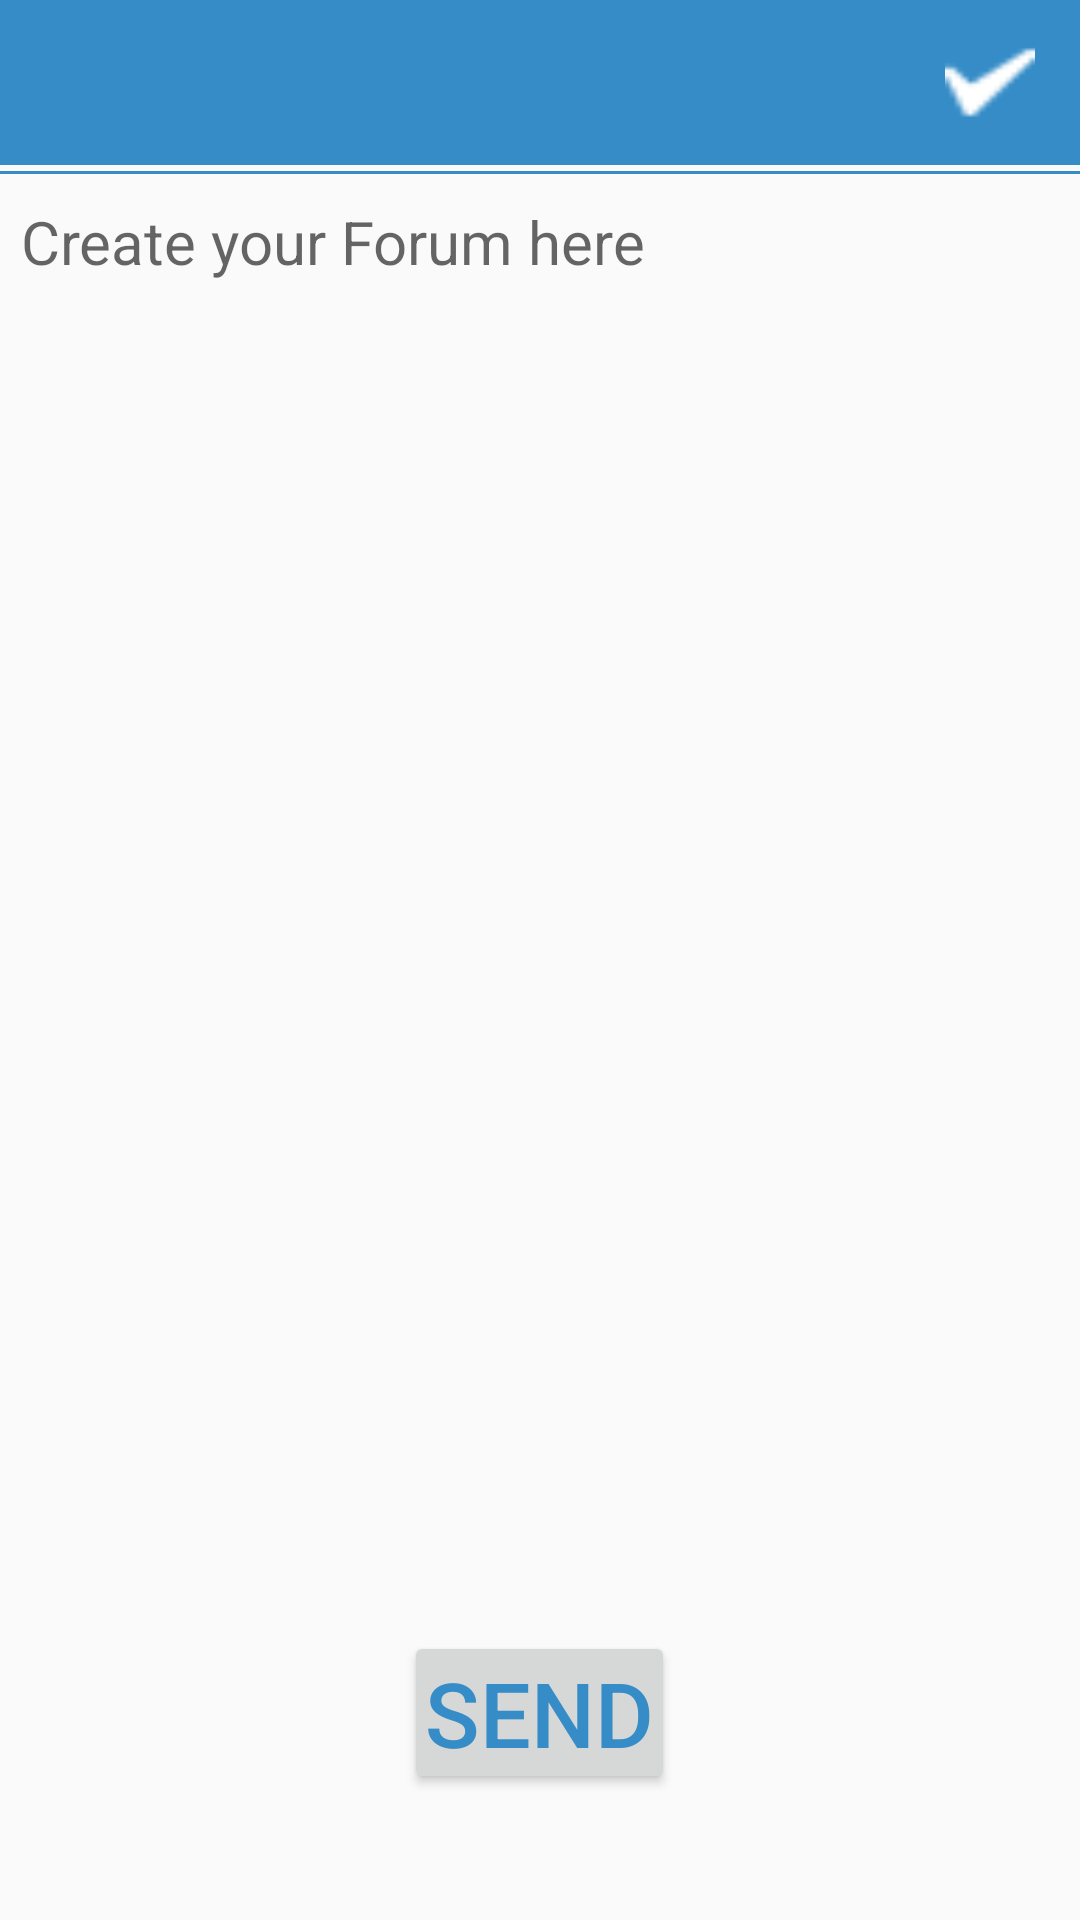

Icon click points for this 1080 x 1920 phone screenshot, format point (x, y):
done: point (990, 82)
